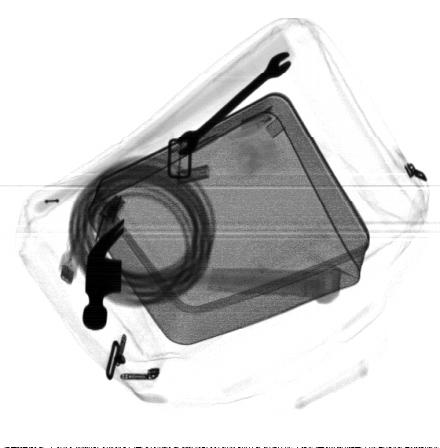Hammer: (82, 219, 341, 331)
Wrench: (178, 51, 291, 155)
